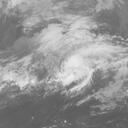cyclone: (57, 44, 94, 96)
